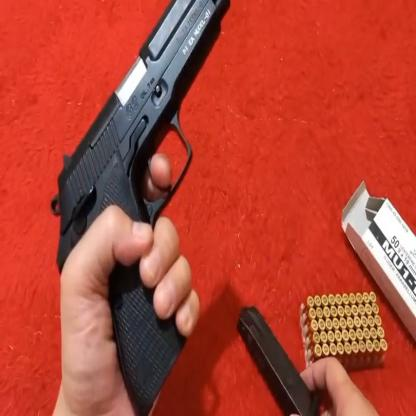handgun: (49, 0, 233, 416)
